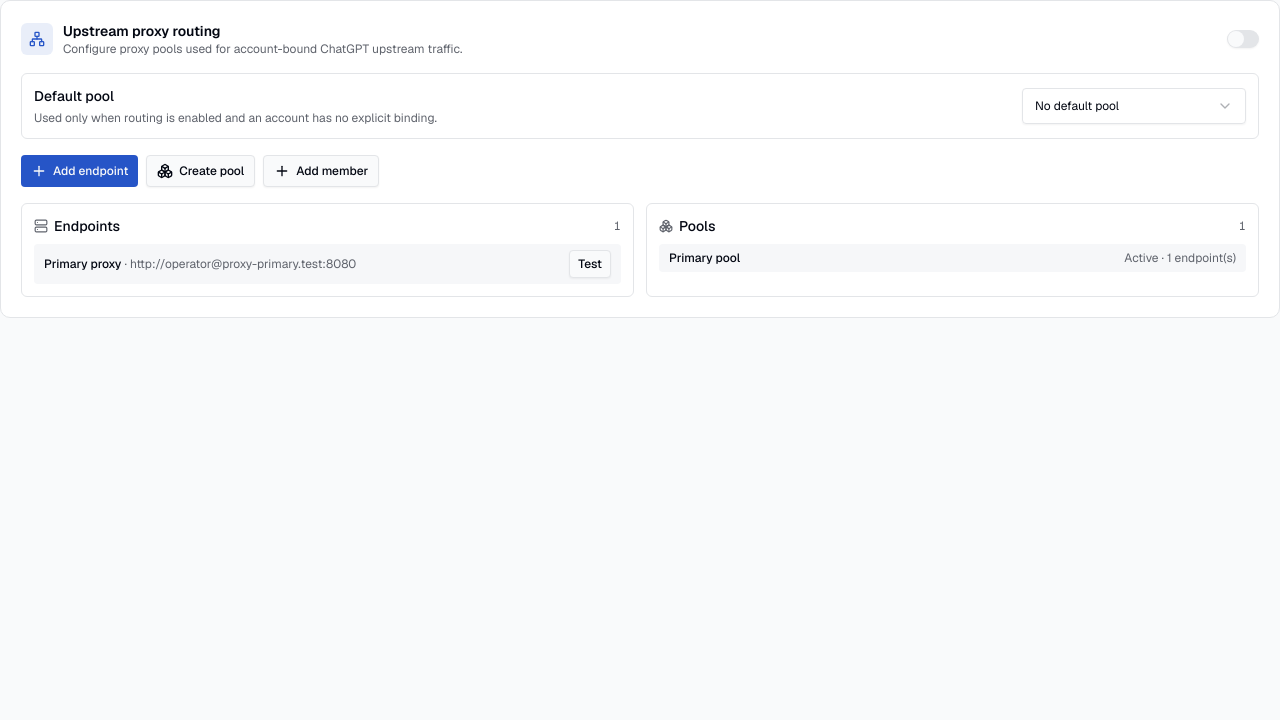
Test case: UpstreamProxySettings › saves routing toggles and creates endpoints from a dialog
Click the switch named "Enable upstream proxy routing". click: (1243, 39)
box: [1227,30,1259,48]
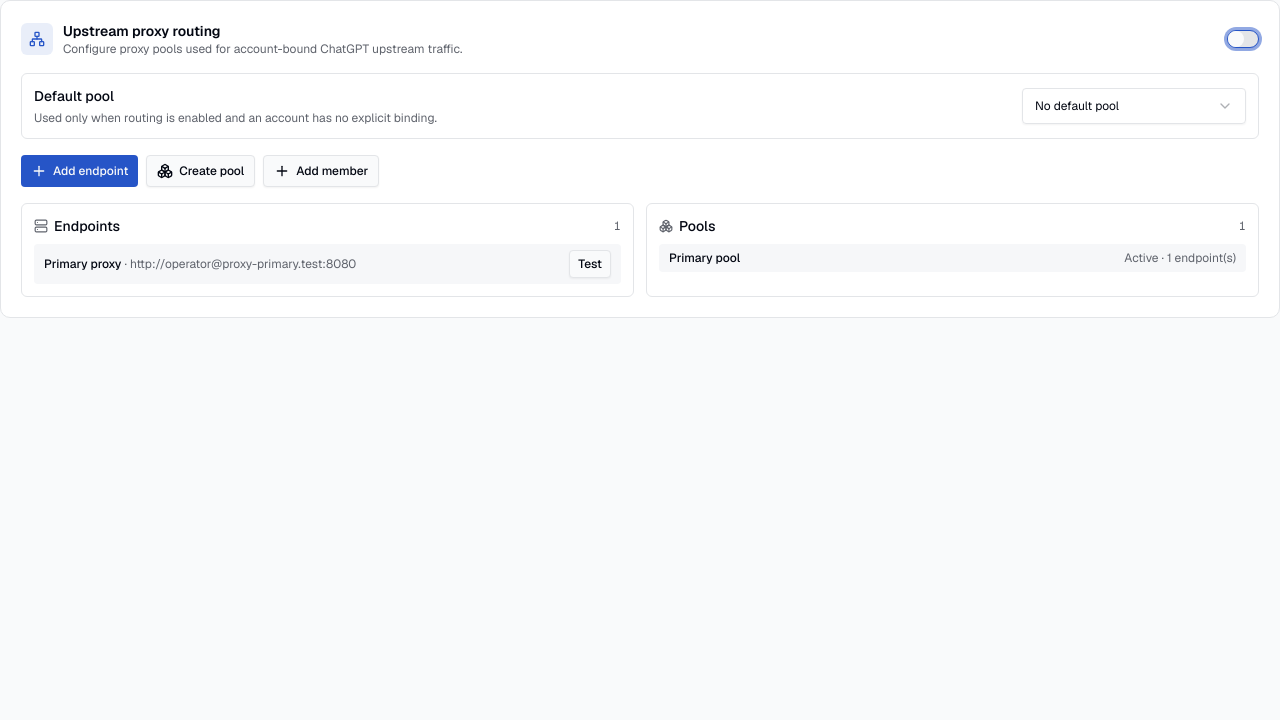
Click the button "Add endpoint". click: (80, 171)
box: [21,155,138,187]
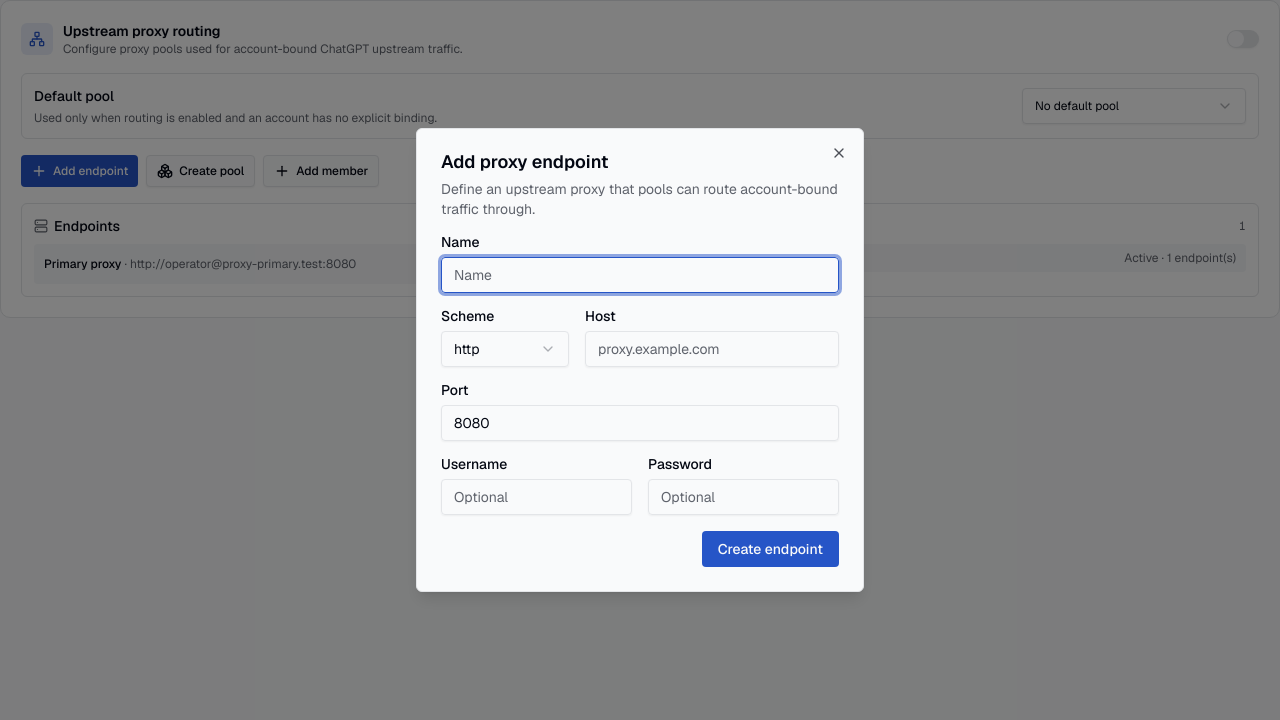
Type "Backup proxy" into the field labelled "Name". click: (640, 275)
box: [441,257,839,293]
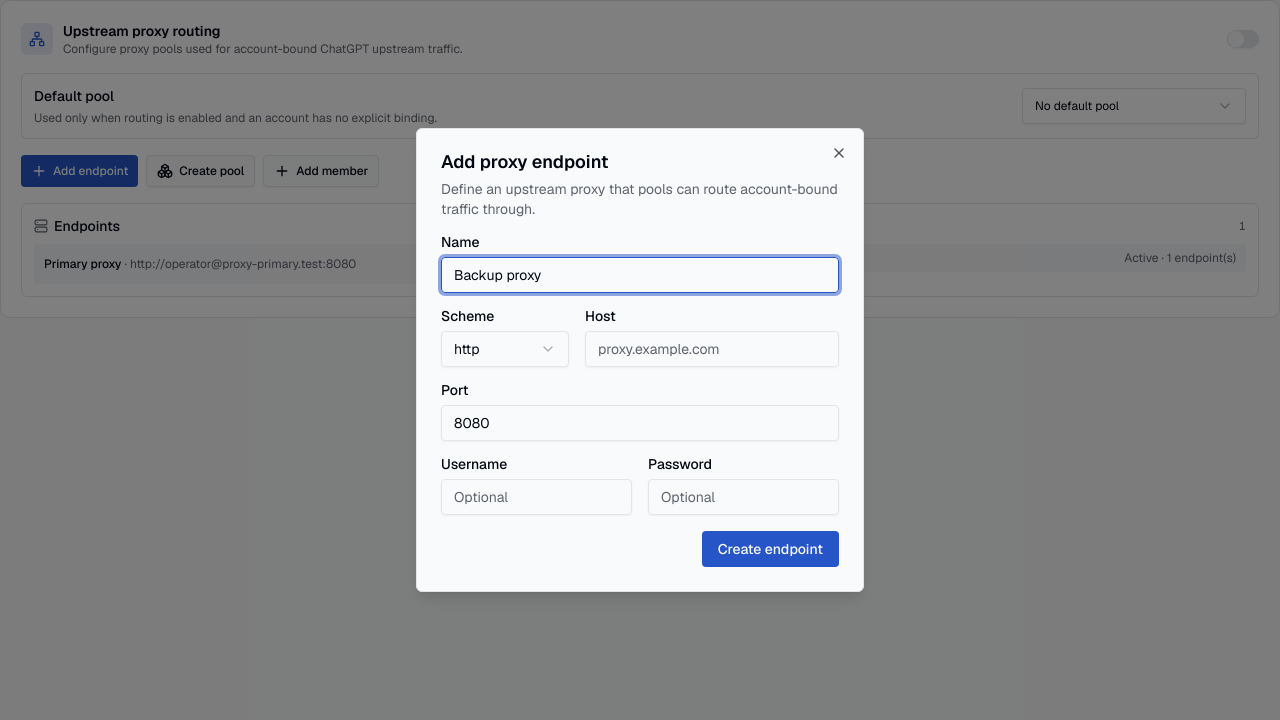
Type "backup.proxy.test" into the field labelled "Host". click: (712, 349)
box: [585,331,839,367]
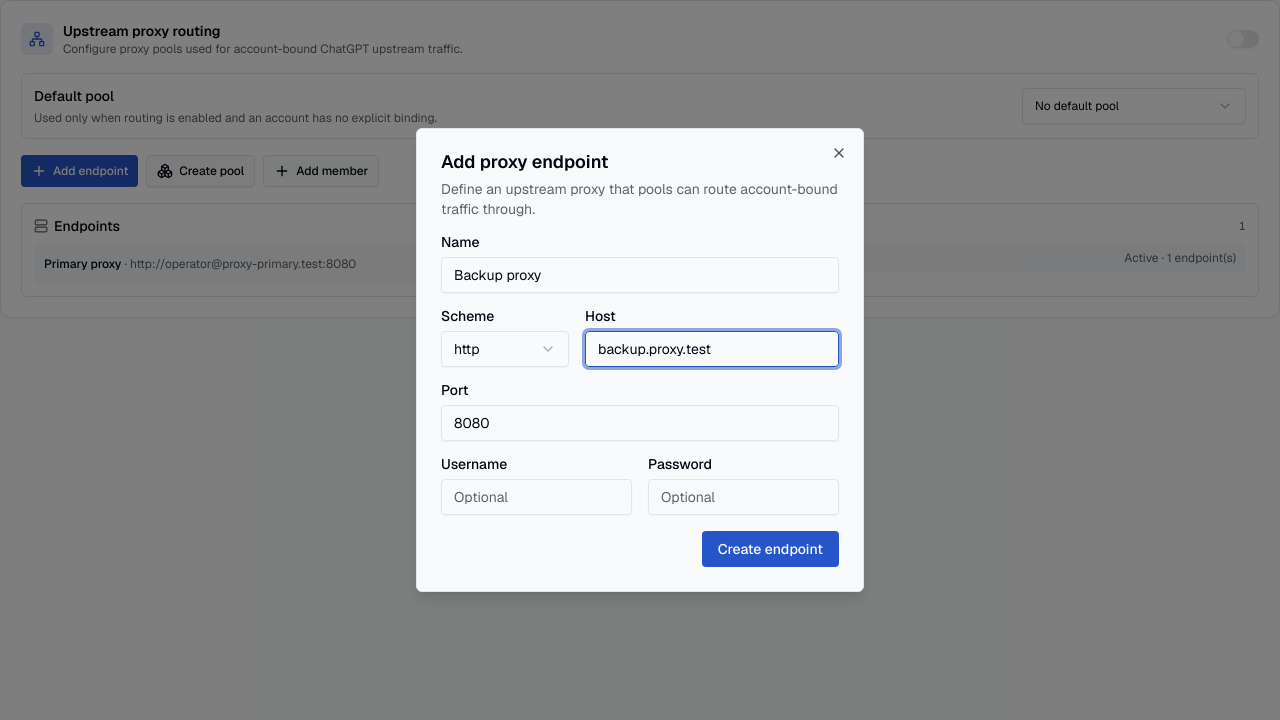
Type "8081" into the field labelled "Port". click: (640, 423)
box: [441,405,839,441]
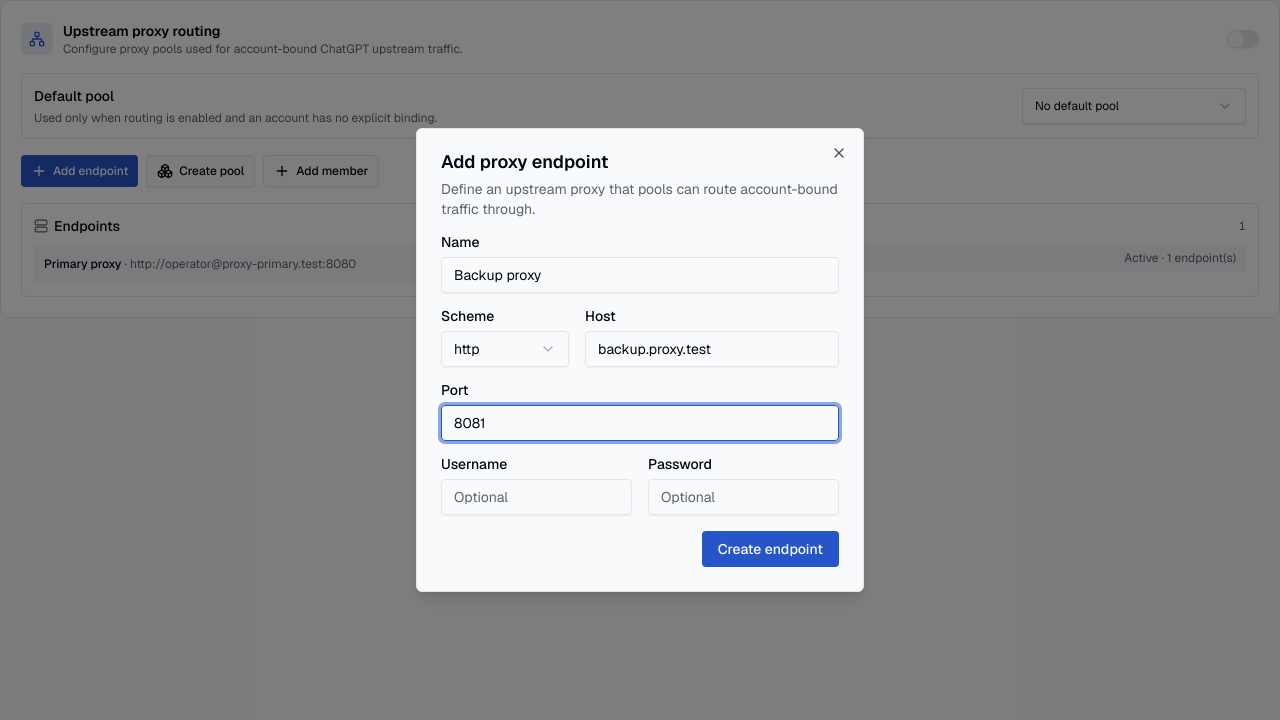
Click the button "Create endpoint". click: (770, 549)
box: [702,531,839,567]
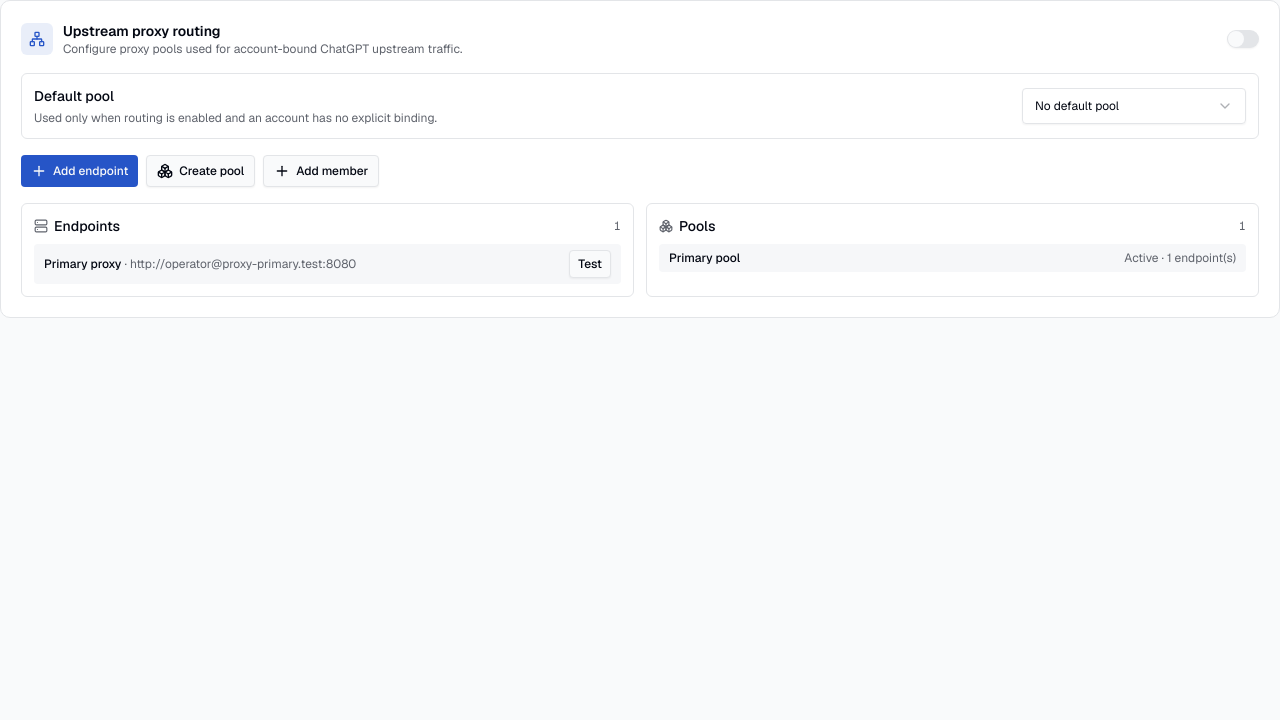
Expected: the dialog is gone
